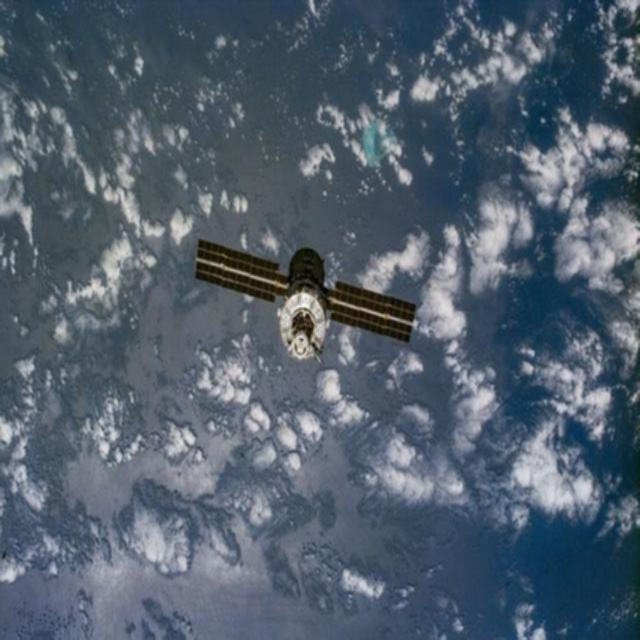satellite: (184, 235, 438, 371)
